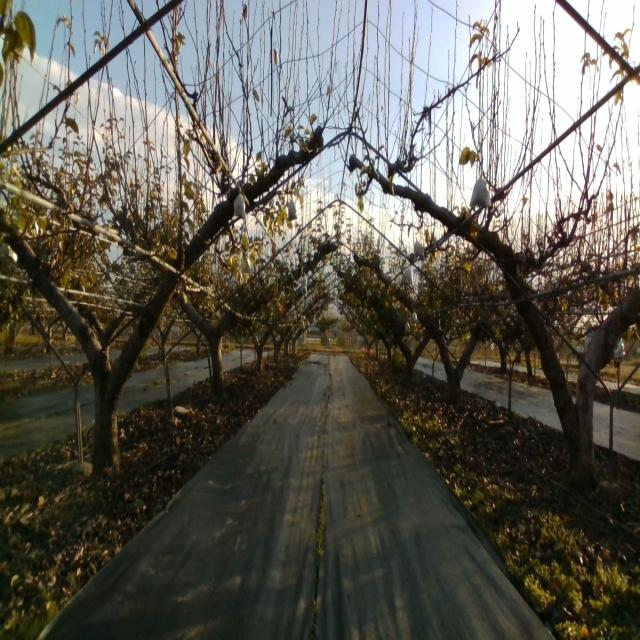pearbags: (469, 168, 492, 208), (233, 185, 246, 220), (287, 199, 297, 222)
